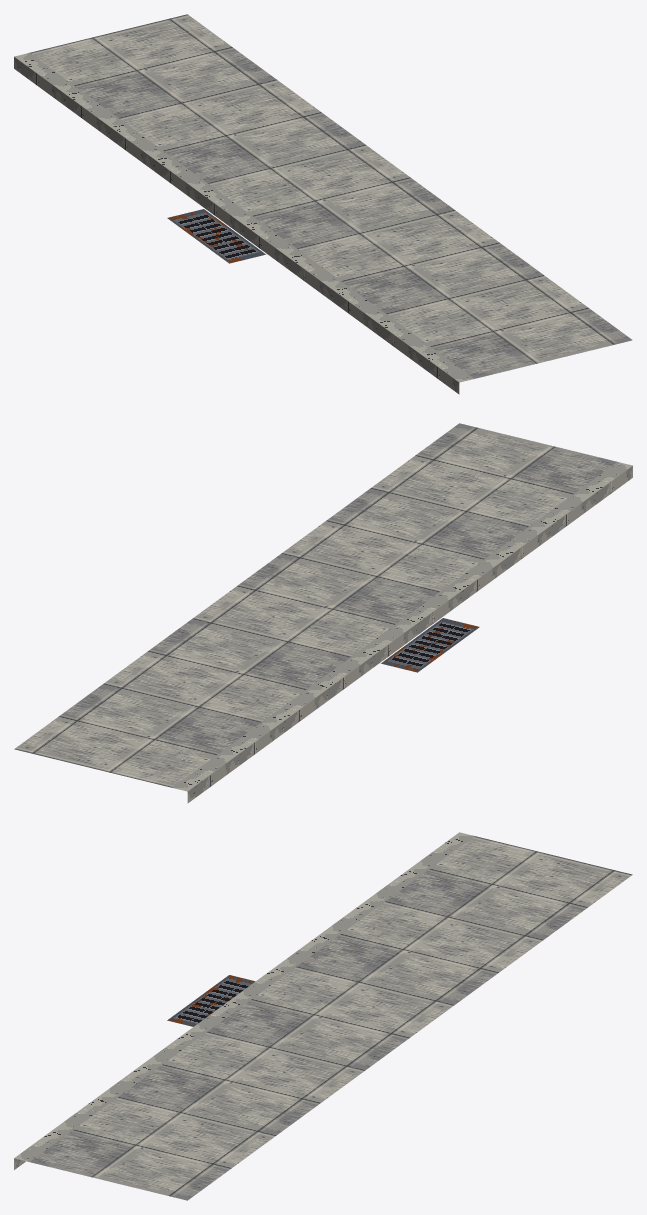
Rendered from SW_StormDrain_10m.obj.
3 renders of one model, top to bottom at view 1: azimuth 30°, elevation 25°; view 2: azimuth 150°, elevation 25°; view 3: azimuth 330°, elevation 25°, orthographic.
Parts seen in each view (by area): view 1: SW_StormDrain_10m_Mesh_M_Road_SidewalkConcrete, SW_StormDrain_10m_Mesh_M_Road_CurbConcrete, SW_StormDrain_10m_Mesh_M_Town_DrainGrate; view 2: SW_StormDrain_10m_Mesh_M_Road_SidewalkConcrete, SW_StormDrain_10m_Mesh_M_Road_CurbConcrete, SW_StormDrain_10m_Mesh_M_Town_DrainGrate; view 3: SW_StormDrain_10m_Mesh_M_Road_SidewalkConcrete, SW_StormDrain_10m_Mesh_M_Road_CurbConcrete, SW_StormDrain_10m_Mesh_M_Town_DrainGrate.
Part boxes in pixels (box(x1,y1,x2,y2)): SW_StormDrain_10m_Mesh_M_Road_SidewalkConcrete: box(29, 14, 632, 378); SW_StormDrain_10m_Mesh_M_Road_CurbConcrete: box(14, 53, 474, 394); SW_StormDrain_10m_Mesh_M_Town_DrainGrate: box(167, 209, 265, 263); SW_StormDrain_10m_Mesh_M_Road_SidewalkConcrete: box(14, 423, 617, 787); SW_StormDrain_10m_Mesh_M_Road_CurbConcrete: box(172, 462, 632, 803); SW_StormDrain_10m_Mesh_M_Town_DrainGrate: box(381, 618, 479, 672); SW_StormDrain_10m_Mesh_M_Road_SidewalkConcrete: box(30, 836, 632, 1200); SW_StormDrain_10m_Mesh_M_Road_CurbConcrete: box(14, 832, 474, 1169); SW_StormDrain_10m_Mesh_M_Town_DrainGrate: box(167, 975, 255, 1026).
Bounding box in the file's own units: 2.75 × 0.15 × 10.
4 materials, 4 textured.
